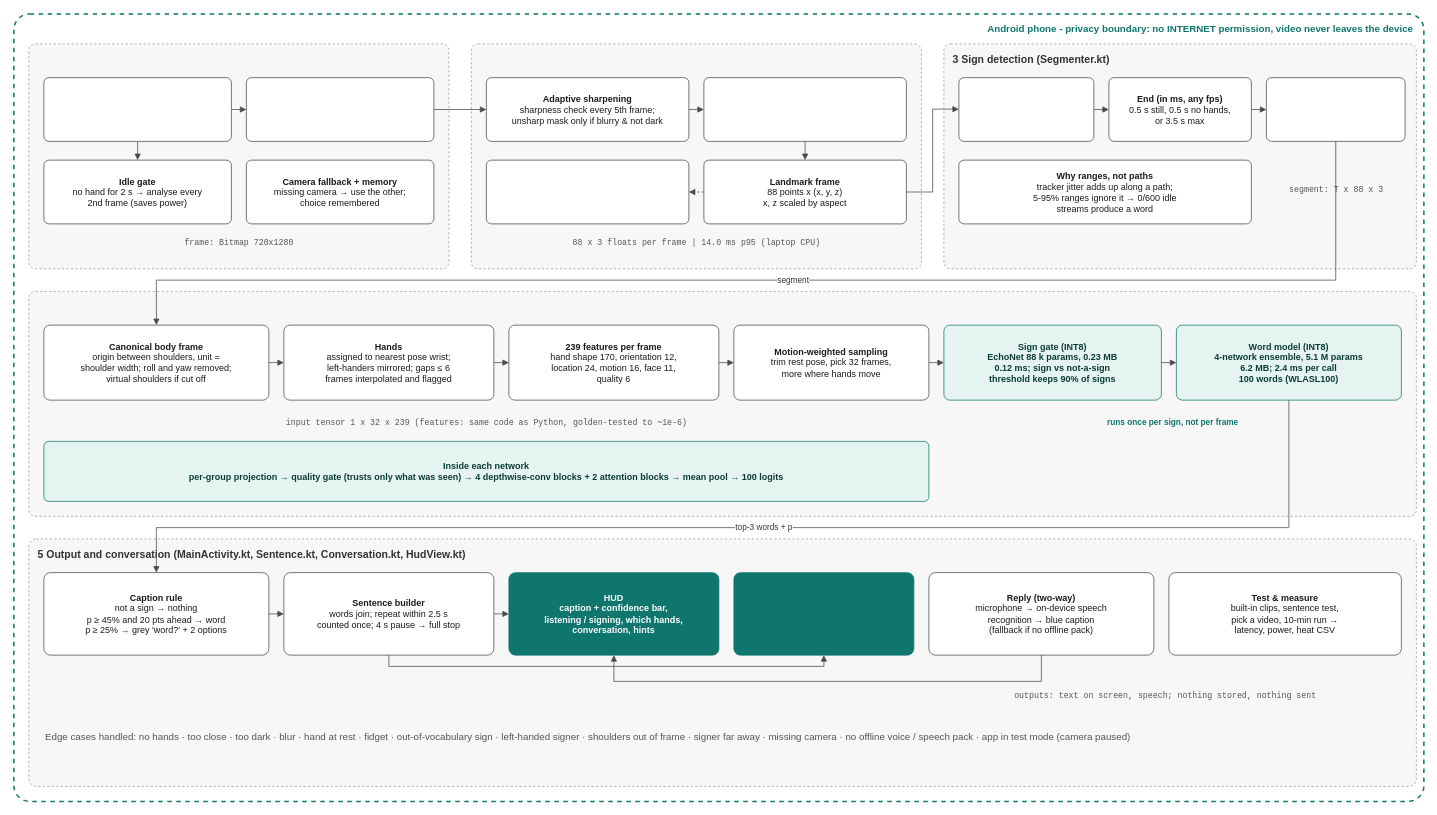
Image size: 1437x815. Some labels were removed from this diagram. The shapes that lost their labels are listed below. From the top down, each one's box as (x1, y1, x2, y2) in pixels, then its label:
(43, 77, 231, 141): CameraX back camera (exocentric) / front 1280x720 RGBA, keep-latest
(246, 77, 434, 141): Low-light check mean luma every 15th frame < 0.18 → torch or white screen ring
(703, 77, 906, 141): MediaPipe Holistic GPU delegate, CPU fallback pose 33 + hands 2x21 + face 13
(958, 77, 1094, 141): Start hand seen in 2 frames (+5 frames pre-roll)
(1266, 77, 1405, 141): Is it a sign? ≥ 5 frames, ≥ 0.4 s, and wrist ≥ 0.2 or fingertip ≥ 0.25 face h.
(28, 43, 449, 269): 1 Capture (MainActivity.kt)
(471, 43, 921, 269): 2 Perception (Landmarks.kt, Enhance.kt)
(486, 159, 689, 224): Hints face > 40% of frame → "move back" too dark → "add light"
(28, 291, 1416, 516): 4 Understanding (Features.kt, Recognizer.kt, ONNX Runtime)
(733, 572, 914, 655): Voice offline TTS voice only (network voices skipped)
